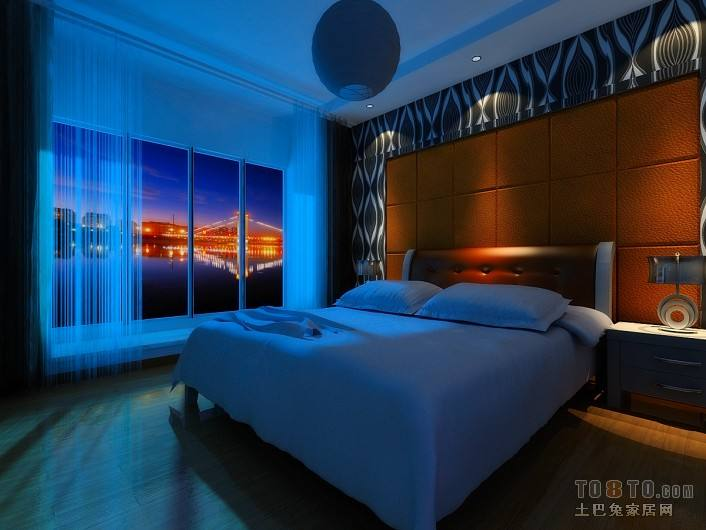床: (171, 299, 610, 503)
枕头: (336, 276, 567, 335)
灯: (302, 0, 403, 104), (647, 254, 706, 336), (470, 53, 487, 67)
